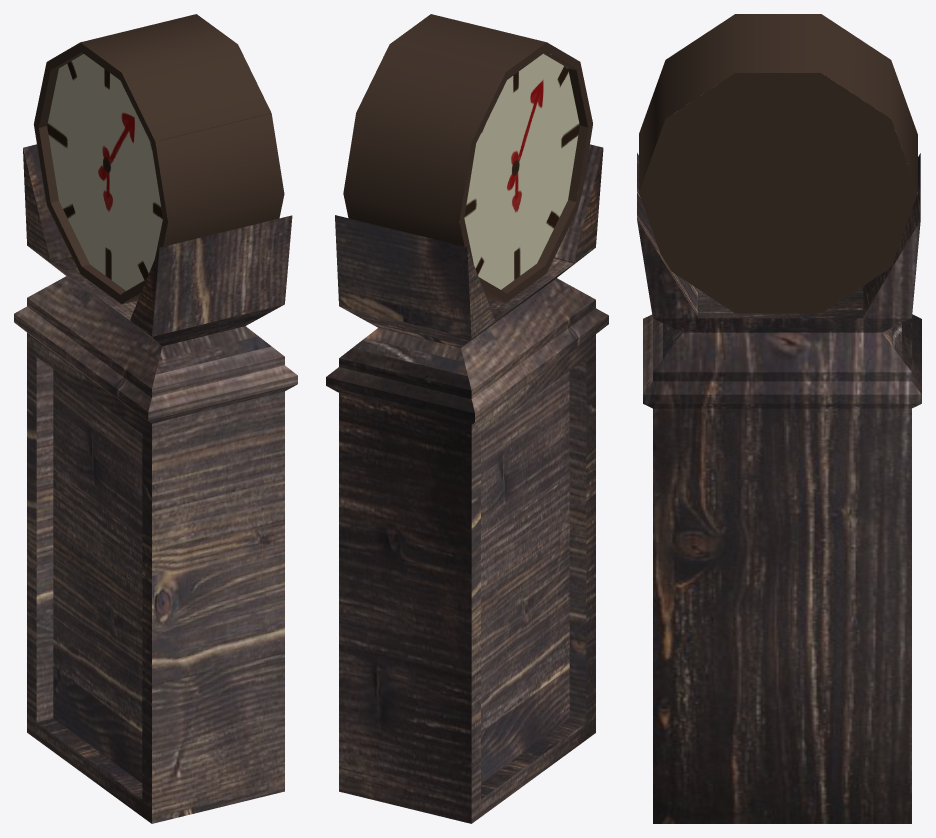
File: OldClock.fbx
3 views of the same model, side by side, from view 1: azimuth 30°, elevation 25°; view 2: azimuth 150°, elevation 25°; view 3: azimuth 270°, elevation 25° (orthographic). The views are drawn at different scales.
Visible parts, largest first — view 1: Box001, Cylinder001; view 2: Box001, Cylinder001; view 3: Box001, Cylinder001.
Part boxes in pixels (box(x1,y1,x2,y2)): Box001: box(14, 144, 297, 823); Cylinder001: box(33, 14, 284, 304); Box001: box(326, 144, 608, 823); Cylinder001: box(343, 14, 592, 303); Box001: box(637, 153, 921, 823); Cylinder001: box(639, 14, 917, 313).
Size of the model in its own units: 22.86 by 105 by 36.3.
2 materials, 2 textured.
